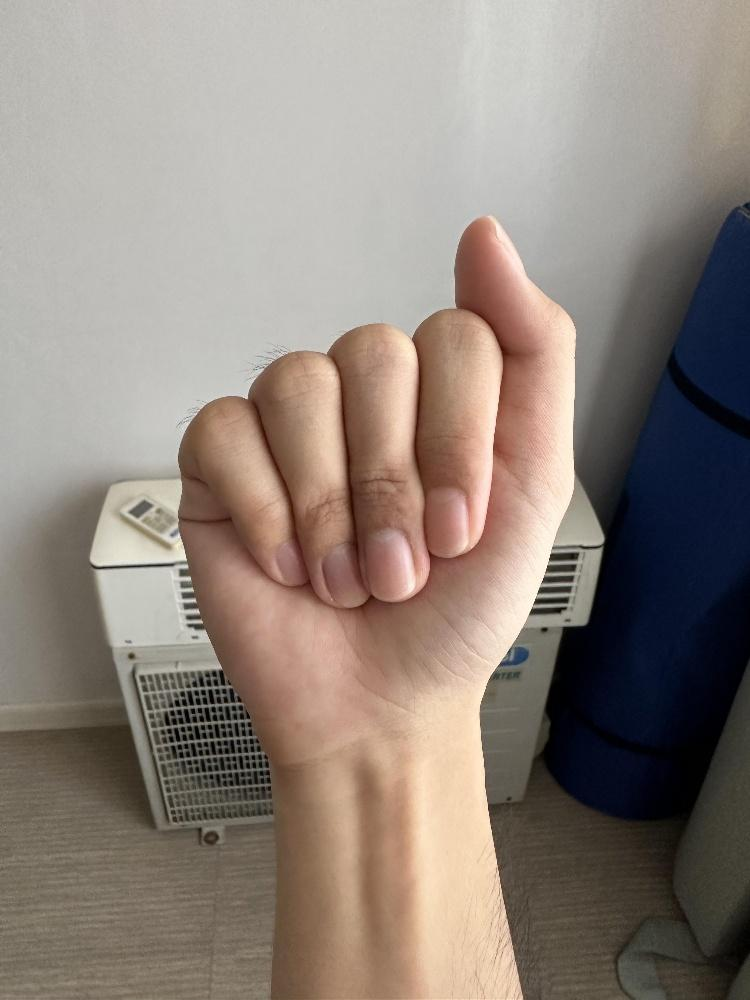a: (171, 208, 580, 769)
